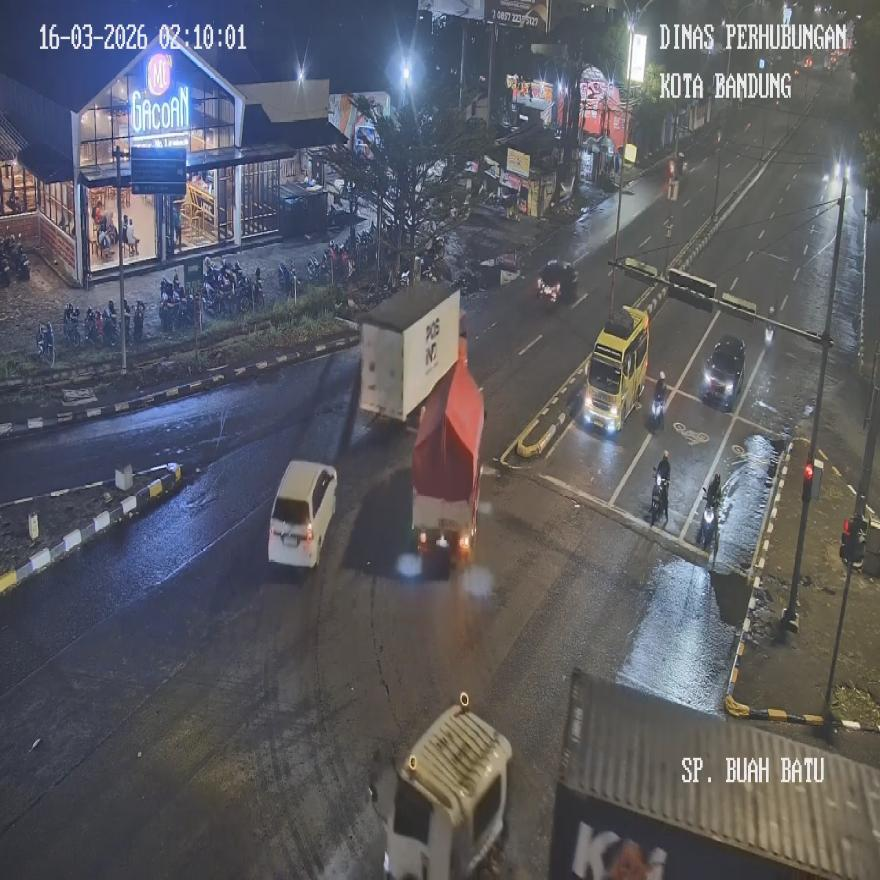Bis mini: (584, 306, 650, 431)
Mobil: (267, 460, 338, 568), (701, 334, 745, 407), (537, 260, 578, 304)
Motor: (696, 474, 722, 552), (650, 452, 670, 524), (652, 372, 667, 425)
Truk berat: (521, 667, 879, 879), (368, 692, 519, 879)
Truk menengah: (412, 351, 485, 554), (360, 284, 463, 420)
